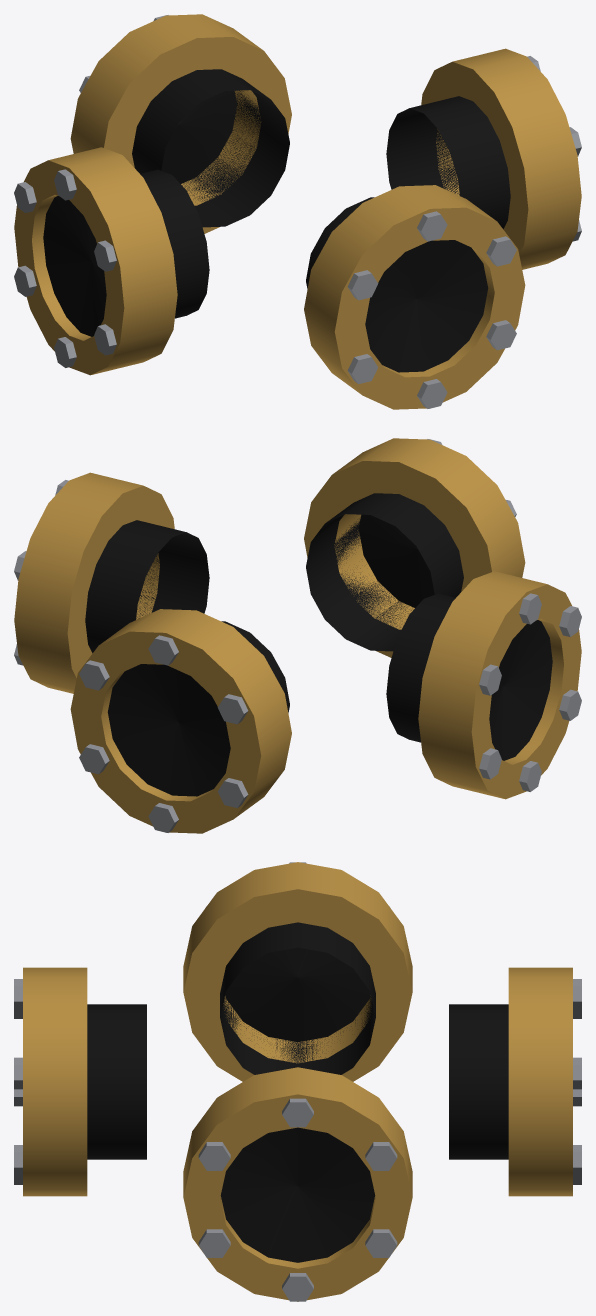
File: rcs4_emitter.obj
The picture shows the model from 3 angles, top to bottom: view 1: azimuth 30°, elevation 25°; view 2: azimuth 150°, elevation 25°; view 3: azimuth 270°, elevation 25°; orthographic projection. The views are drawn at different scales.
Parts seen in each view (by area): view 1: rcs4_emitter; view 2: rcs4_emitter; view 3: rcs4_emitter.
Part boxes in pixels (left/top/right/bottom): rcs4_emitter: left=14, top=14, right=581, bottom=409; rcs4_emitter: left=14, top=438, right=581, bottom=833; rcs4_emitter: left=14, top=862, right=581, bottom=1301.
Size of the model in its own units: 1.24 by 0.5 by 1.24.
